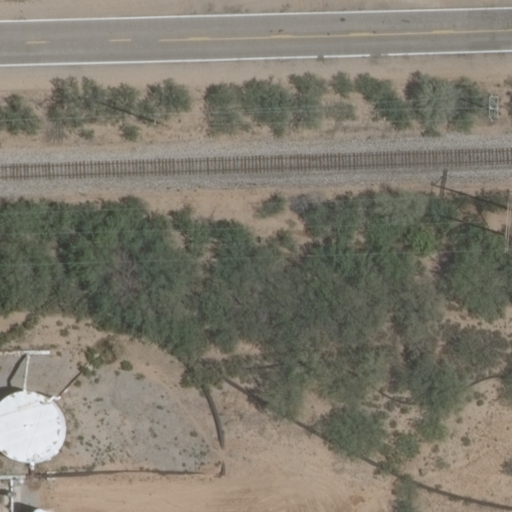TT: (428, 176, 512, 236)
